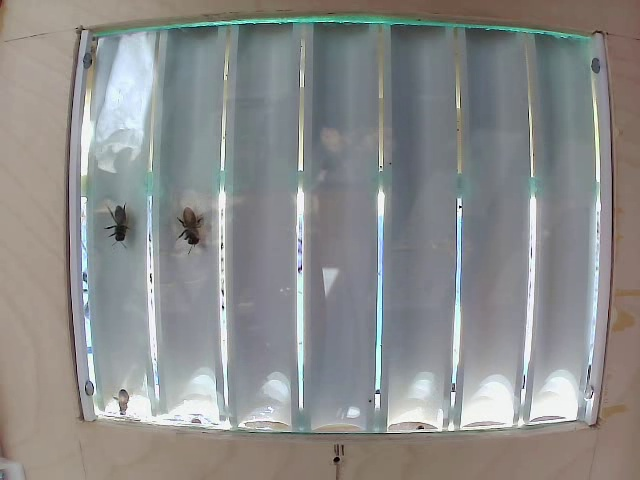bee: (168, 197, 219, 263), (114, 206, 146, 258)
